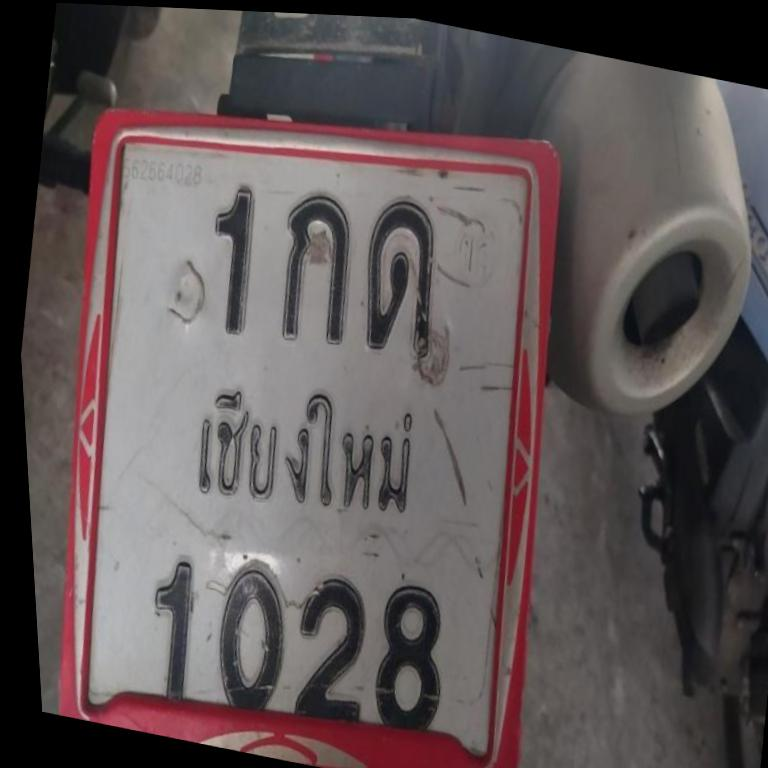license plate: (5, 89, 617, 768)
